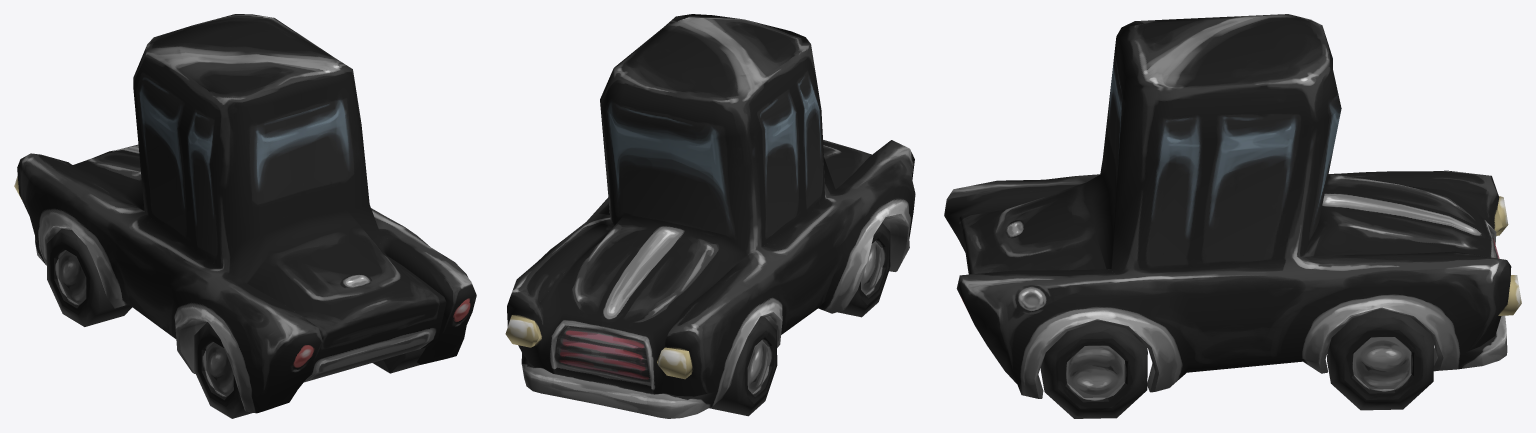
File: auto_01.fbx
The picture shows the model from 3 angles, left to right: view 1: azimuth 30°, elevation 25°; view 2: azimuth 150°, elevation 25°; view 3: azimuth 270°, elevation 25°; orthographic projection. The views are drawn at different scales.
Parts seen in each view (by area): view 1: auto_01; view 2: auto_01; view 3: auto_01.
Part boxes in pixels (left/top/right/bottom): auto_01: left=14, top=14, right=476, bottom=418; auto_01: left=505, top=14, right=915, bottom=418; auto_01: left=944, top=14, right=1521, bottom=418.
Bounding box in the file's own units: 0.678 × 0.7743 × 1.26.
